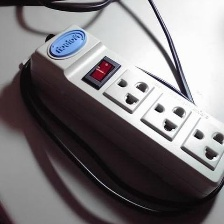three_eye_plug: (22, 24, 223, 204)
